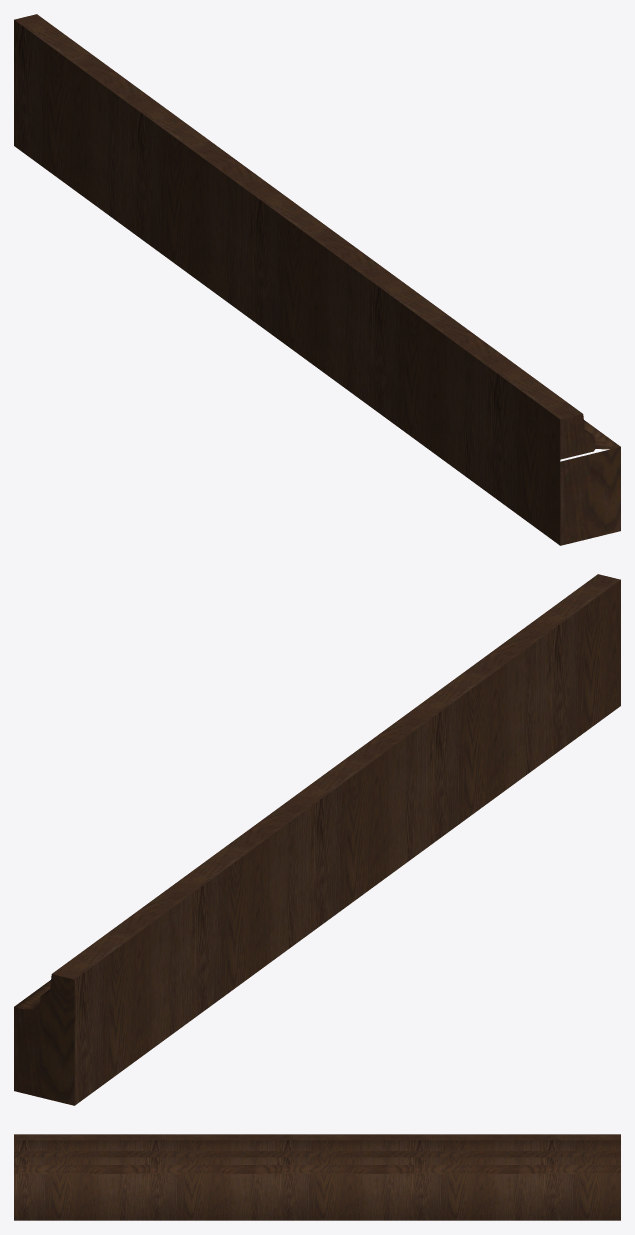
Rendered from souphalftrim004.glb.
3 views of the same model, one above another, from view 1: azimuth 30°, elevation 25°; view 2: azimuth 150°, elevation 25°; view 3: azimuth 270°, elevation 25° (orthographic). The views are drawn at different scales.
Parts seen in each view (by area): view 1: souphalftrim004_high_1; view 2: souphalftrim004_high_1; view 3: souphalftrim004_high_1.
Boxes of the visible parts, x1,y1,x2,y2 form: souphalftrim004_high_1: [14, 14, 620, 545]; souphalftrim004_high_1: [14, 574, 620, 1105]; souphalftrim004_high_1: [14, 1134, 620, 1220].
Size of the model in its own units: 0.0861 by 0.1712 by 1.34.
Materials: 1 (1 with a texture image).
